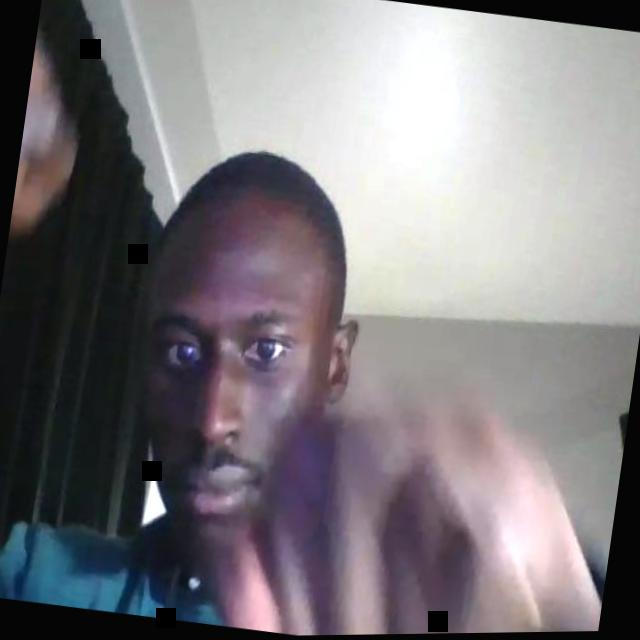NO-Mask: (117, 261, 340, 579)
